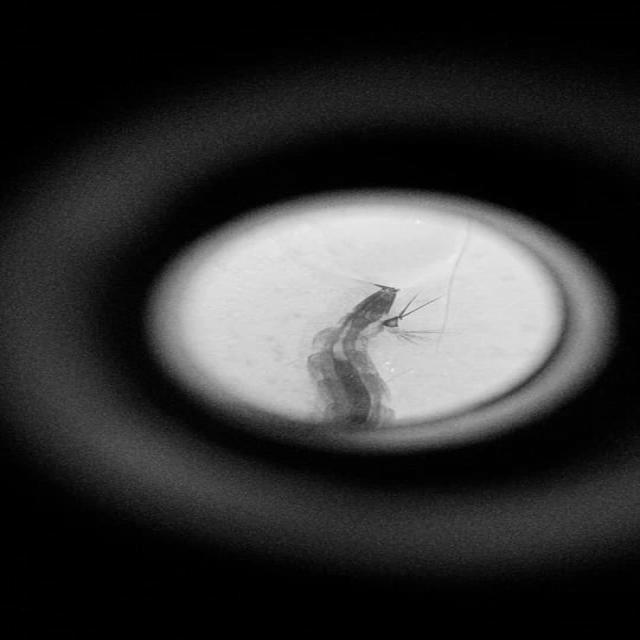larvas: (305, 282, 407, 425)
